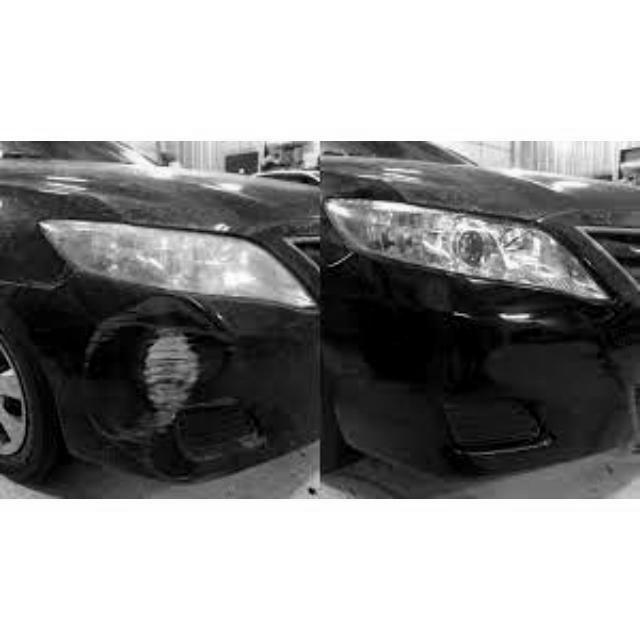front-bumper-dent: (0, 295, 326, 487)
